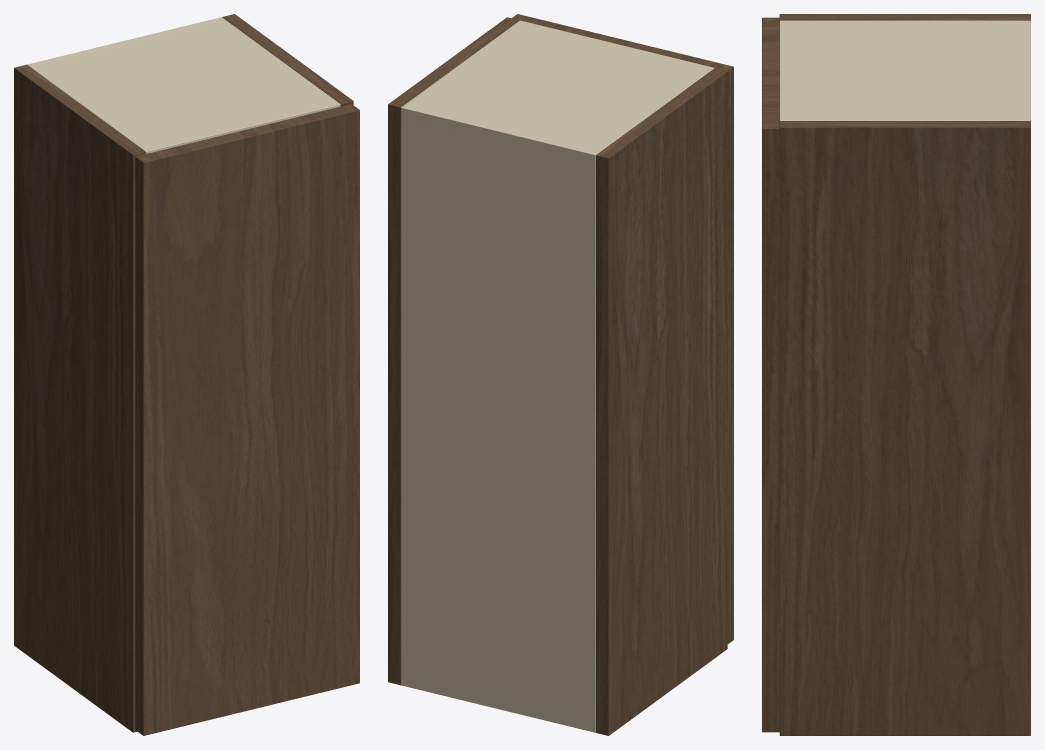
The model's file is oppein-ply-mso-w1230.glb.
3 views of the same model, side by side, from view 1: azimuth 30°, elevation 25°; view 2: azimuth 150°, elevation 25°; view 3: azimuth 270°, elevation 25° (orthographic). The views are drawn at different scales.
Visible parts, largest first — view 1: Door, Cabinet side, Cabinet top, Cabinet side.001, Cabinet back; view 2: Cabinet back, Cabinet side, Cabinet top, Cabinet side.001, Door, Cabinet bottom; view 3: Cabinet side.001, Cabinet top, Door, Cabinet side, Cabinet back.
Boxes of the visible parts, left/top/right/bottom form: Door: left=135, top=104, right=359, bottom=735; Cabinet side: left=14, top=64, right=145, bottom=732; Cabinet top: left=27, top=17, right=340, bottom=153; Cabinet side.001: left=222, top=14, right=353, bottom=106; Cabinet back: left=28, top=17, right=225, bottom=67; Cabinet back: left=401, top=104, right=599, bottom=732; Cabinet side: left=596, top=68, right=727, bottom=735; Cabinet top: left=401, top=20, right=714, bottom=167; Cabinet side.001: left=388, top=17, right=519, bottom=685; Door: left=512, top=14, right=733, bottom=643; Cabinet bottom: left=401, top=672, right=595, bottom=732; Cabinet side.001: left=779, top=121, right=1030, bottom=735; Cabinet top: left=779, top=20, right=1030, bottom=120; Door: left=762, top=17, right=779, bottom=732; Cabinet side: left=779, top=14, right=1030, bottom=20; Cabinet back: left=1020, top=20, right=1030, bottom=120.
Size of the model in its own units: 0.3048 by 0.762 by 0.3048.
Materials: 2 (1 with a texture image).
